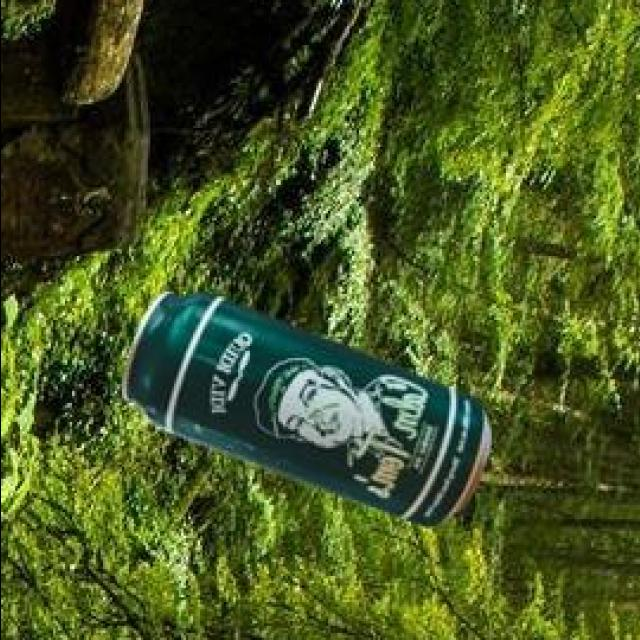logam: (124, 297, 494, 530)
